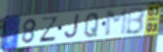8: (21, 17, 37, 45)
B: (124, 6, 146, 36)
J: (63, 14, 80, 41)
M: (104, 8, 130, 39)
Q: (83, 12, 101, 39)
Z: (38, 16, 60, 44)
